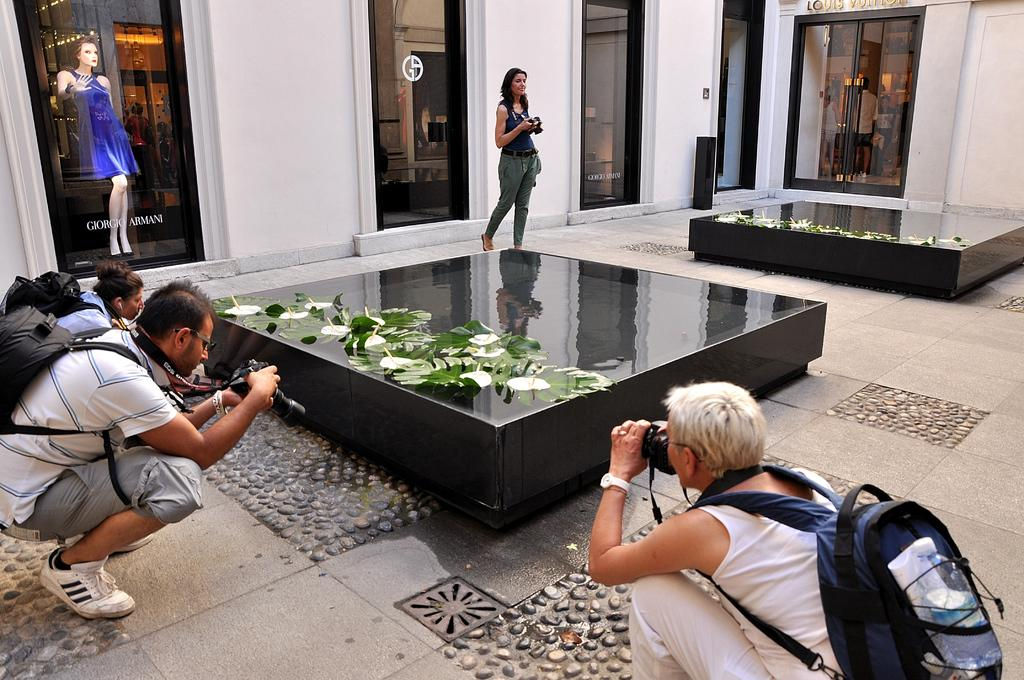Luggage-and-bags: (0, 300, 230, 502), (811, 483, 1004, 680), (0, 264, 110, 324)
